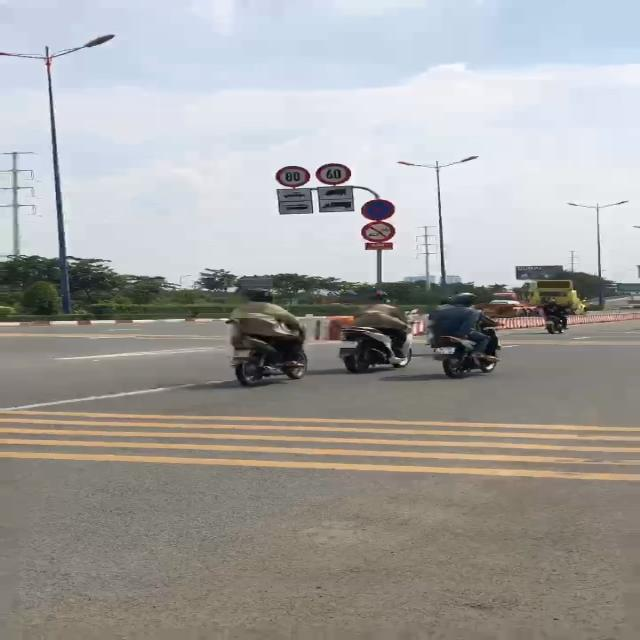Bien bao cam dung xe va do xe: (359, 198, 393, 220)
Bien bao toc do toi da cho phep: (315, 162, 357, 187), (273, 165, 311, 188)
